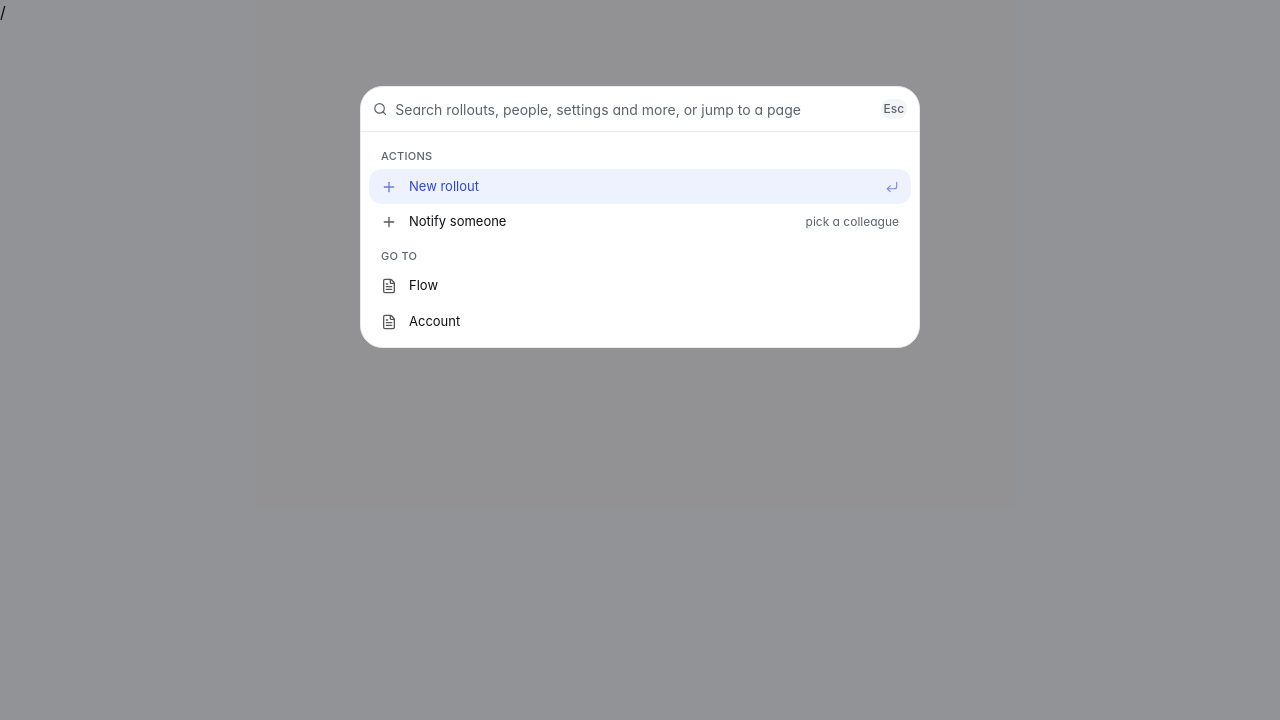
Test: the palette (B7) › finds a colleague for staff
Type "priya" into the dropdown. click: (634, 109)
box: [395,87,873,131]
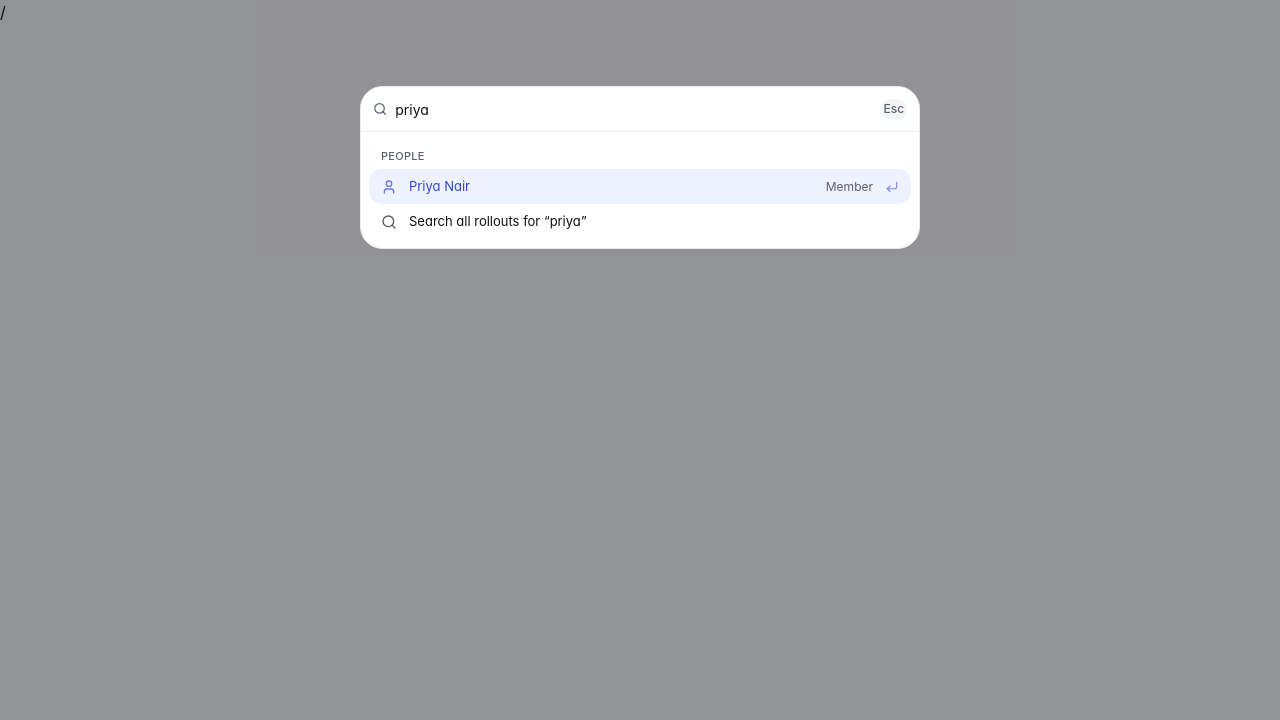
Check: the option "Priya Nair Member" is shown, box [369,169,911,204]
